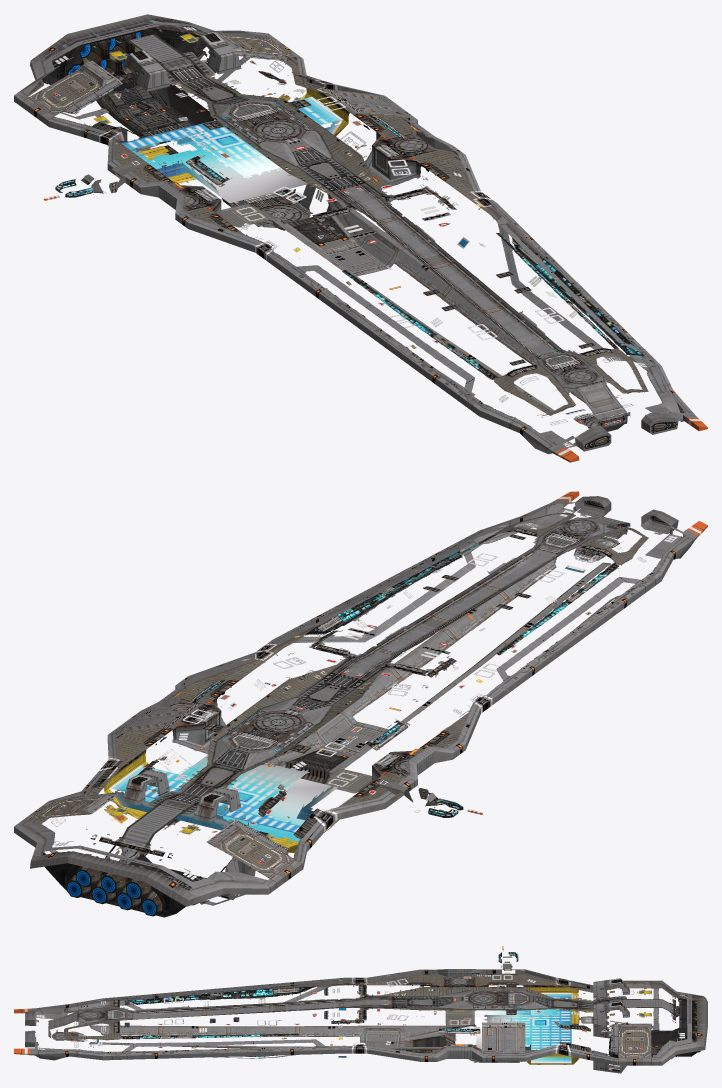
3 renders of one model, top to bottom at view 1: azimuth 30°, elevation 25°; view 2: azimuth 150°, elevation 25°; view 3: azimuth 270°, elevation 25°, orthographic. The views are drawn at different scales.
Visible parts, largest first — view 1: Hgn_BattleCruiser_Main, Badge0_MAT; view 2: Hgn_BattleCruiser_Main, thruster, Badge0_MAT, Hgn_BattleCruiser_Engine; view 3: Hgn_BattleCruiser_Main, Badge0_MAT.
Part boxes in pixels (x1,y1,x2,y2): Hgn_BattleCruiser_Main: [14, 14, 707, 462]; Badge0_MAT: [322, 88, 411, 118]; Hgn_BattleCruiser_Main: [14, 491, 707, 917]; thruster: [66, 869, 157, 916]; Badge0_MAT: [114, 703, 203, 733]; Hgn_BattleCruiser_Engine: [404, 788, 463, 817]; Hgn_BattleCruiser_Main: [14, 946, 707, 1073]; Badge0_MAT: [482, 1022, 525, 1054].
Size of the model in its own units: 363 by 92.9 by 937.
